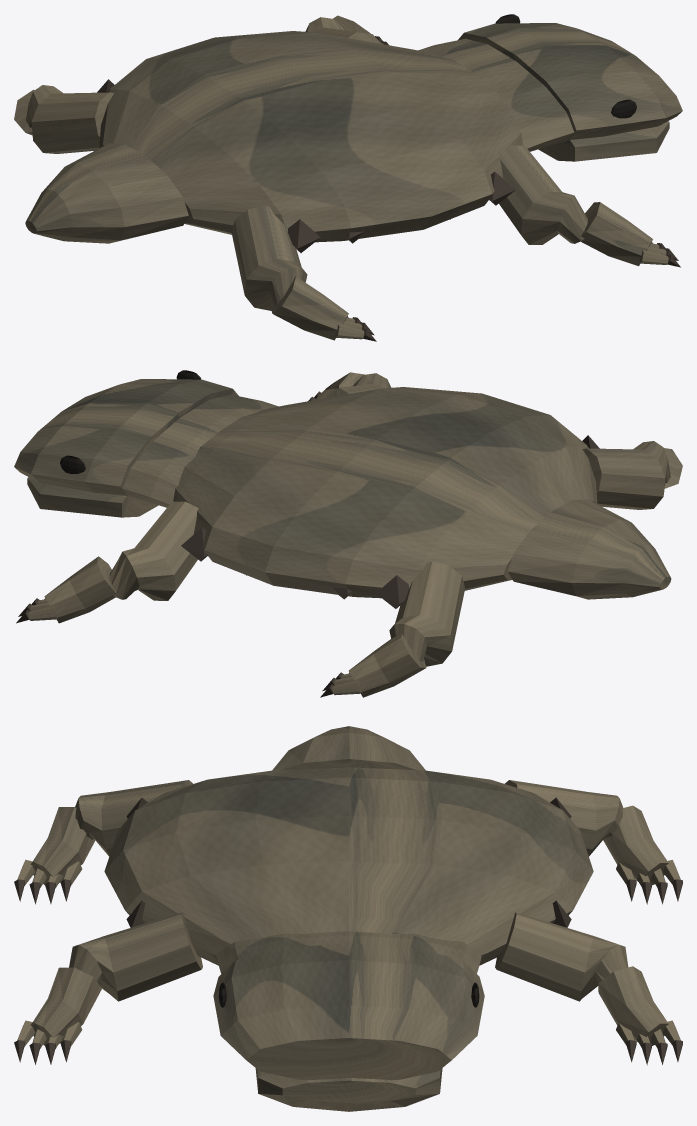
The model's file is lajurim-v01-textured-blockout.glb.
3 renders of one model, top to bottom at view 1: azimuth 30°, elevation 25°; view 2: azimuth 150°, elevation 25°; view 3: azimuth 270°, elevation 25°, orthographic. The views are drawn at different scales.
Visible parts, largest first — view 1: lajurim_root; view 2: lajurim_root; view 3: lajurim_root.
Part boxes in pixels (left/top/right/bottom): lajurim_root: left=14, top=14, right=682, bottom=341; lajurim_root: left=14, top=370, right=682, bottom=697; lajurim_root: left=14, top=726, right=682, bottom=1111.
Bounding box in the file's own units: 0.739 × 0.15 × 0.6508.
1 material, 1 textured.
